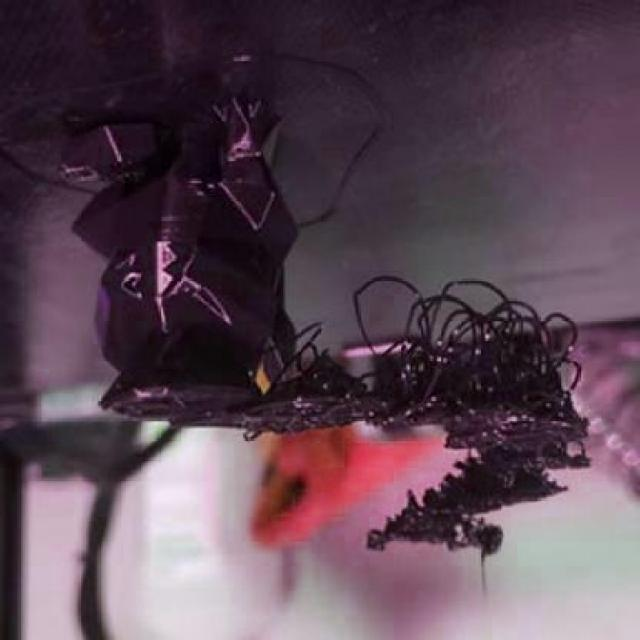spaghetti: (244, 275, 592, 561)
